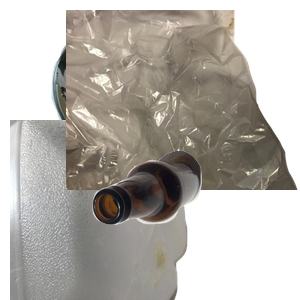glass: (90, 148, 300, 300)
metal: (49, 18, 229, 164)
plastic: (10, 120, 190, 300)
trash: (66, 10, 300, 190)
